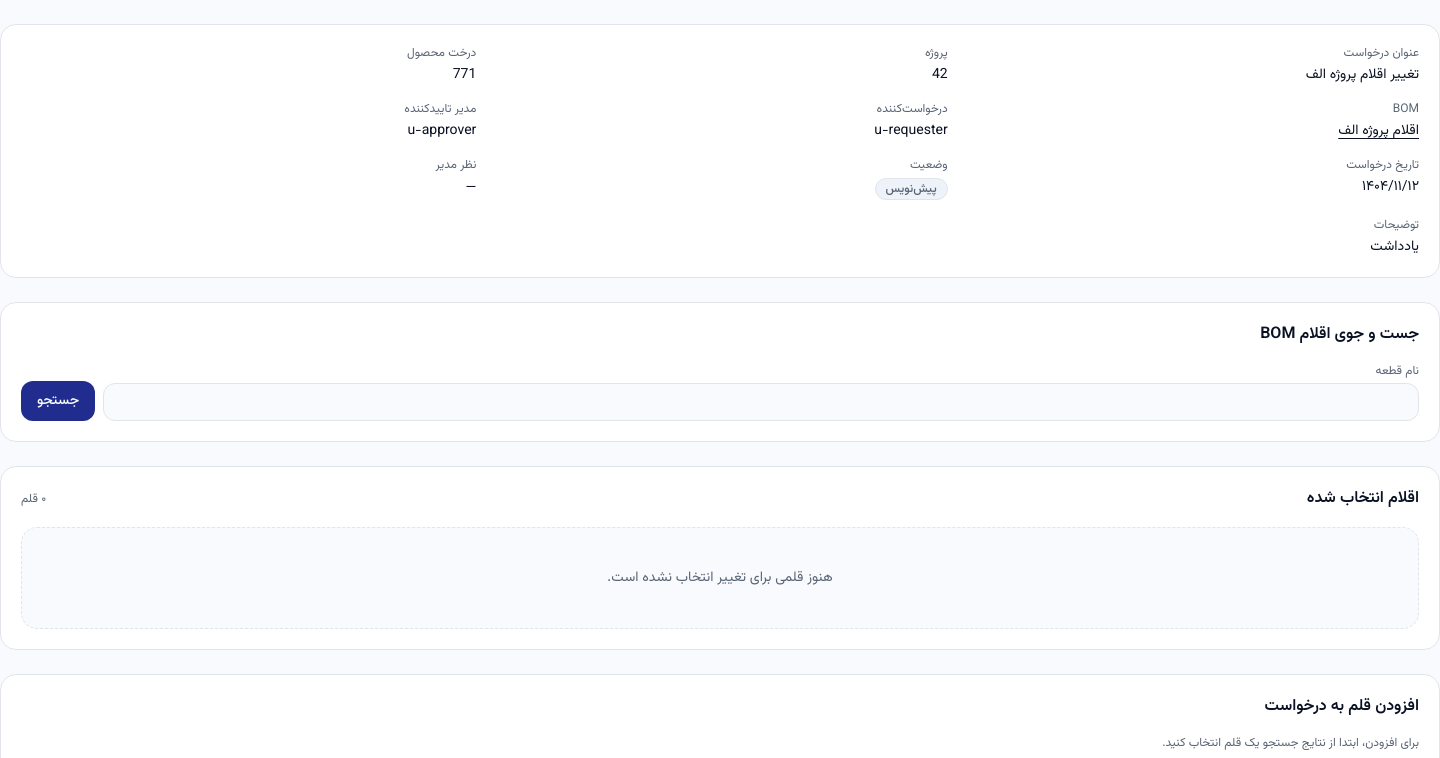
Scenario: ProductionBomChangeDetailView — searching and adding a detail › prevents a DUPLICATE detail and reports it with the legacy sentence
expect the element with test id "production-change-search" is shown: met, box left=0, top=302, right=1439, bottom=442
Type "Bracket" into the field labelled "نام قطعه" at (761, 402), box left=103, top=383, right=1419, bottom=421
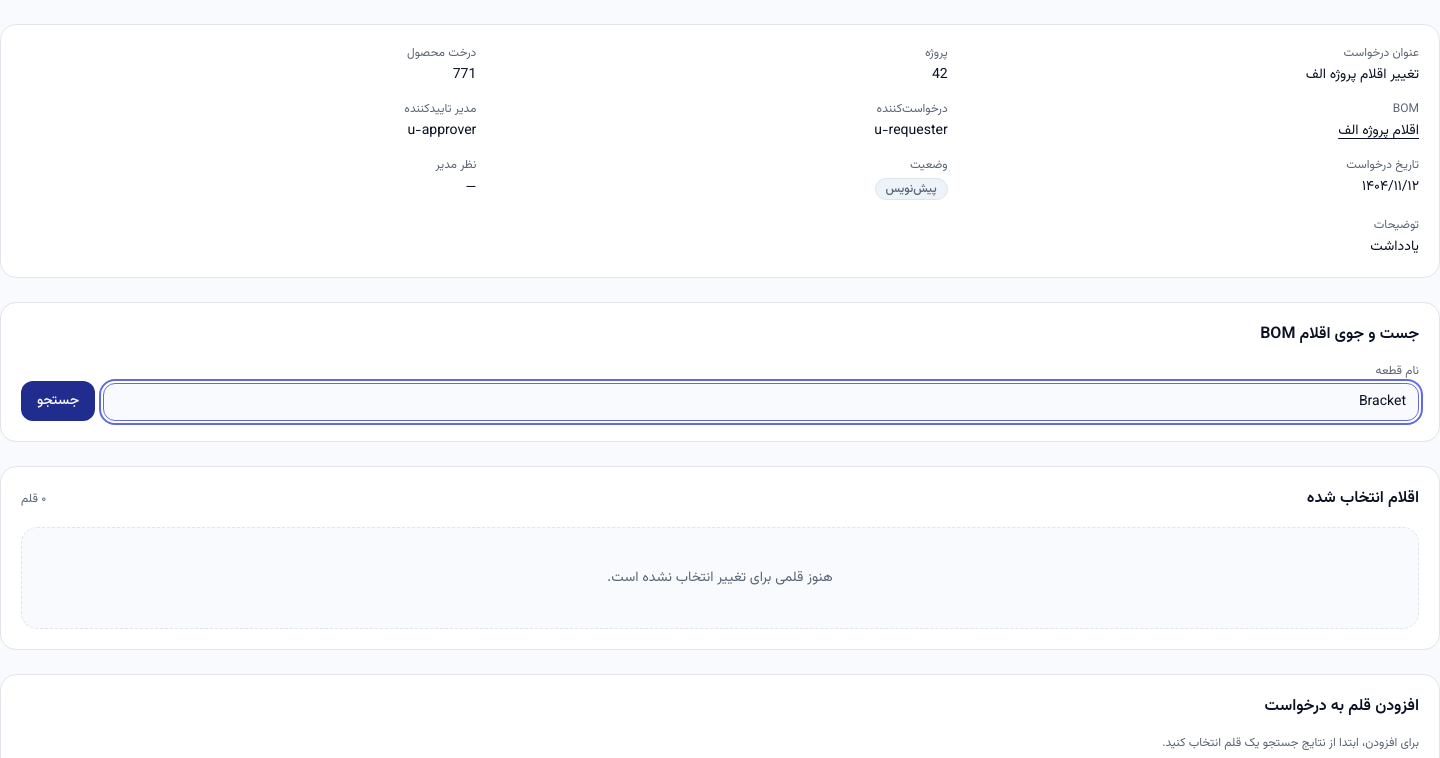
Click the button with test id "production-change-item-search-submit" at (58, 401), box left=21, top=381, right=95, bottom=421
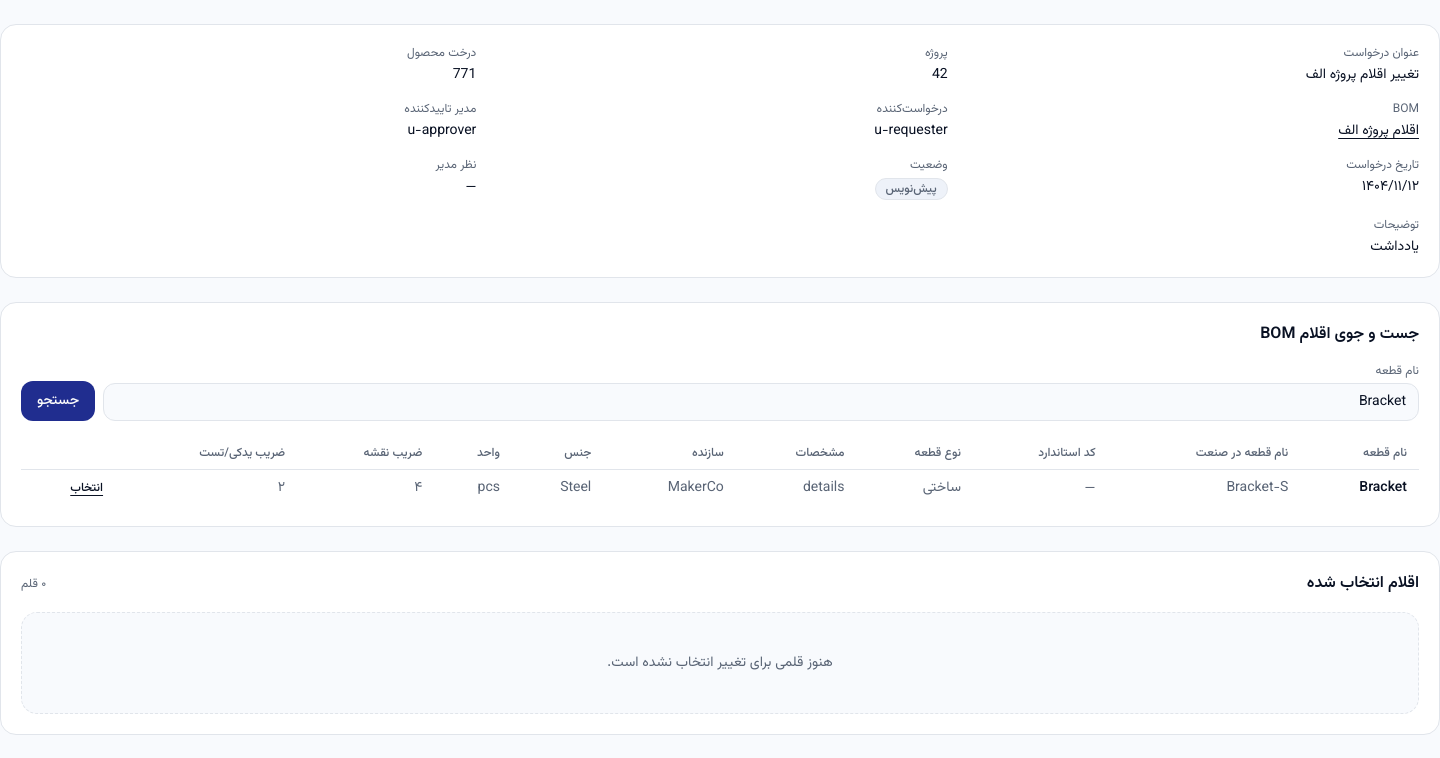
expect the element with test id "production-change-search-results" is shown: met, box left=21, top=437, right=1419, bottom=506
Click the button "انتخاب" at (87, 488), box left=70, top=480, right=103, bottom=496
(page scrolled)
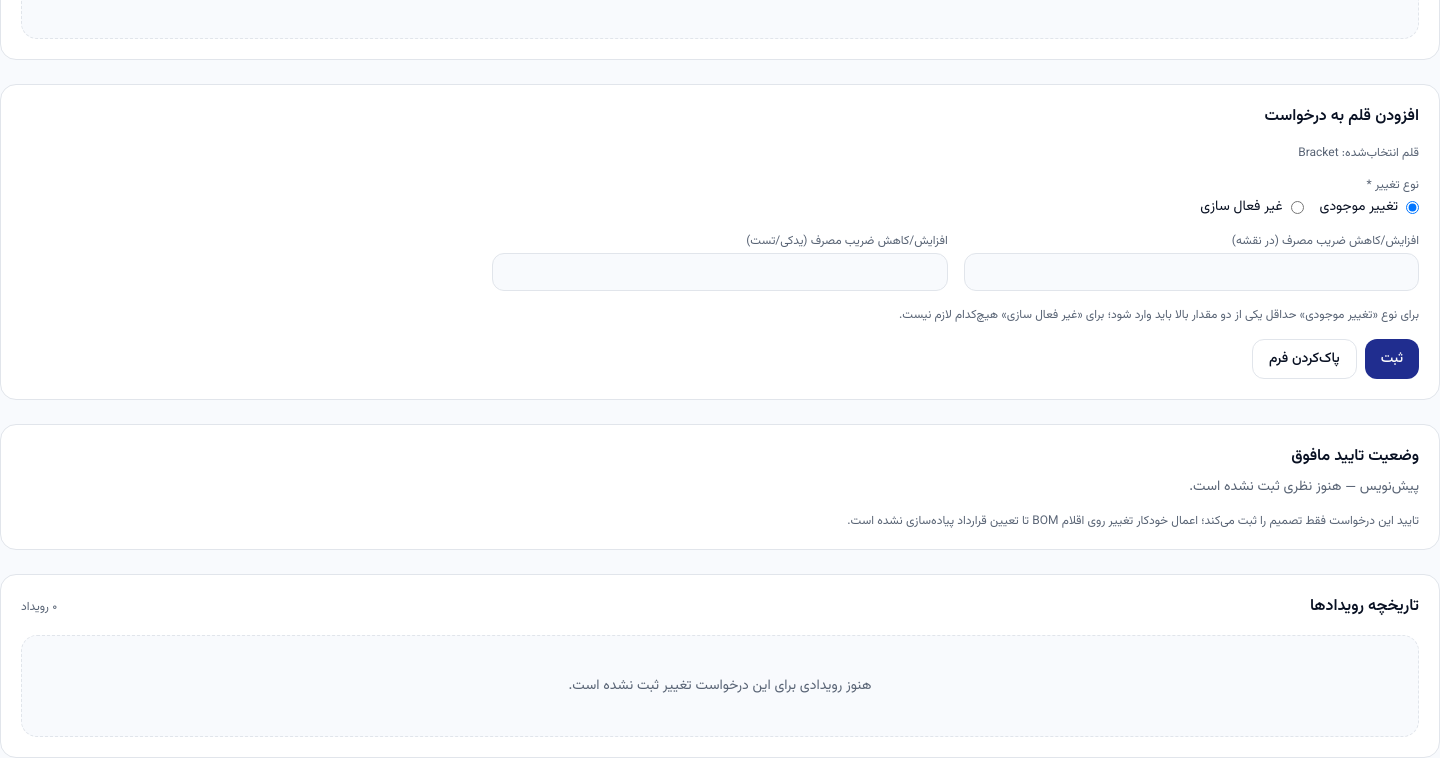
Click the button with test id "production-change-detail-submit" at (1392, 359), box left=1365, top=339, right=1419, bottom=379
(page scrolled)
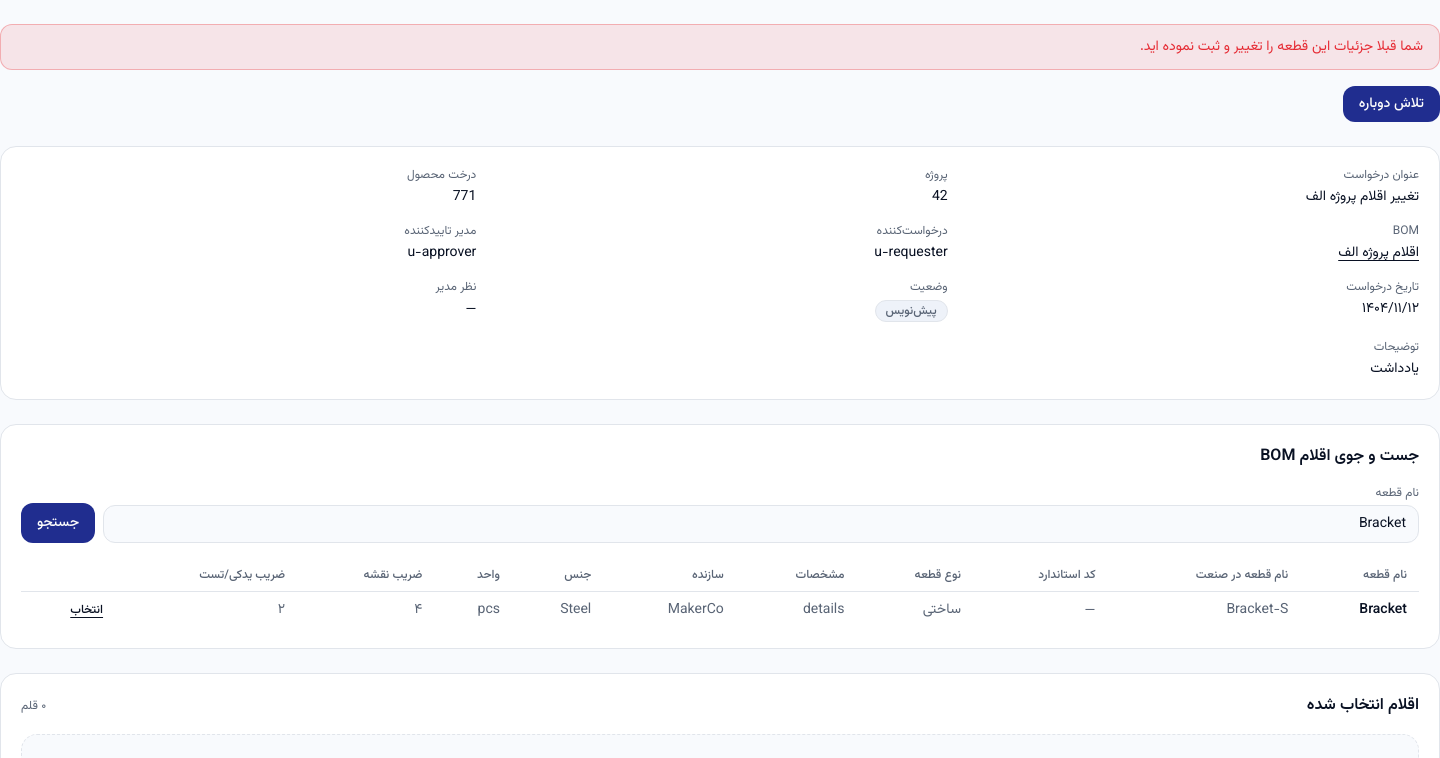
expect the element with test id "production-change-action-error" shows "شما قبلا جزئیات این قطعه را تغییر و ثبت نموده اید": met, box left=1140, top=36, right=1423, bottom=58
